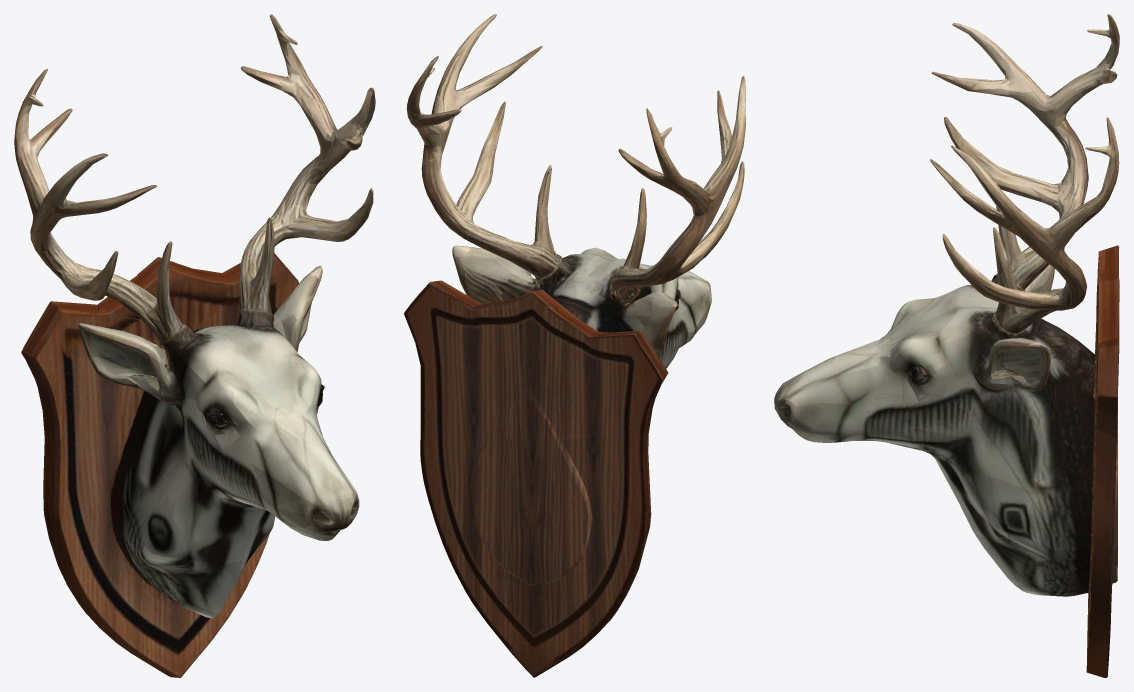
Rendered from antlers.glb.
3 renders of one model, left to right at view 1: azimuth 30°, elevation 25°; view 2: azimuth 150°, elevation 25°; view 3: azimuth 270°, elevation 25°, orthographic. The views are drawn at different scales.
Size of the model in its own units: 0.9931 by 1.9 by 0.9775.
Materials: 1 (1 with a texture image).
